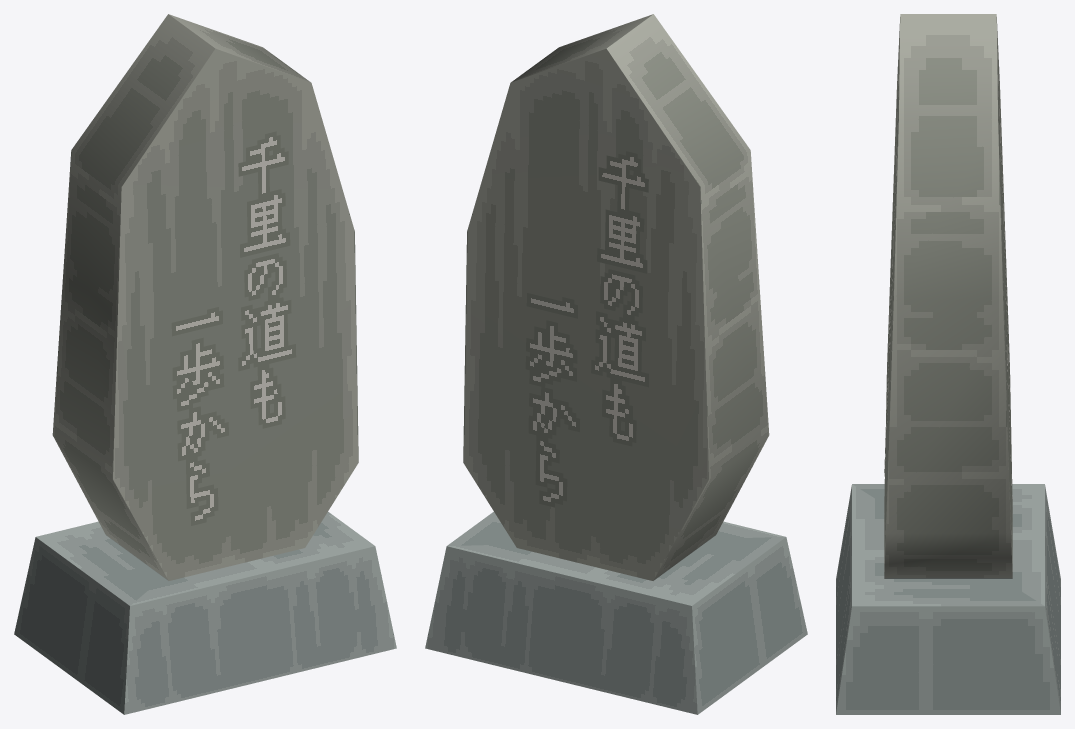
Rendered from 014b_Monument.glb.
3 renders of one model, left to right at view 1: azimuth 30°, elevation 25°; view 2: azimuth 150°, elevation 25°; view 3: azimuth 270°, elevation 25°, orthographic. The views are drawn at different scales.
Visible parts, largest first — view 1: part_0; view 2: part_0; view 3: part_0.
Part boxes in pixels (box(x1,y1,x2,y2)): part_0: box(14, 14, 396, 714); part_0: box(425, 14, 807, 714); part_0: box(836, 14, 1060, 714).
Size of the model in its own units: 1 by 2.15 by 0.7.
1 material, 1 textured.
